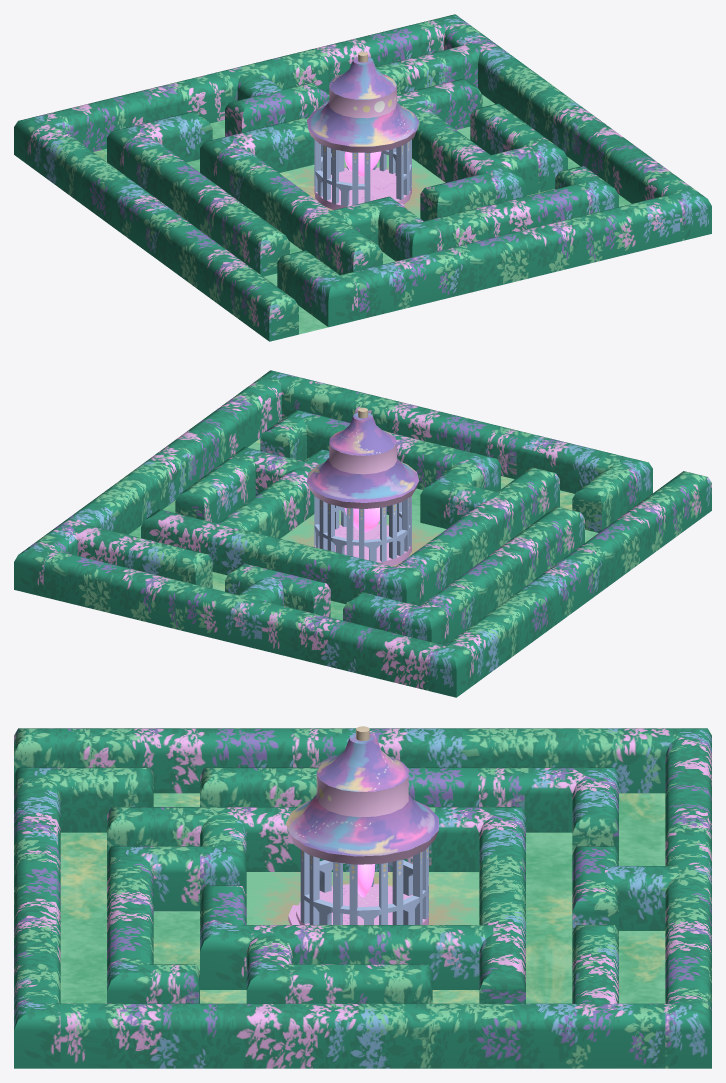
3 views of the same model, one above another, from view 1: azimuth 30°, elevation 25°; view 2: azimuth 150°, elevation 25°; view 3: azimuth 270°, elevation 25° (orthographic). The views are drawn at different scales.
Visible parts, largest first — view 1: Maze, Gazebo, Floor; view 2: Maze, Gazebo, Floor; view 3: Maze, Floor, Gazebo.
Boxes of the visible parts, box(x1,y1,x2,y2) form: Maze: box(14, 14, 711, 341); Gazebo: box(307, 51, 419, 209); Floor: box(93, 94, 631, 334); Maze: box(14, 370, 711, 697); Gazebo: box(307, 407, 419, 565); Floor: box(128, 438, 598, 620); Maze: box(14, 728, 711, 1068); Floor: box(60, 793, 665, 1003); Gazebo: box(286, 726, 438, 924).
Bounding box in the file's own units: 15 × 4.56 × 15.
1 material, 1 textured.
